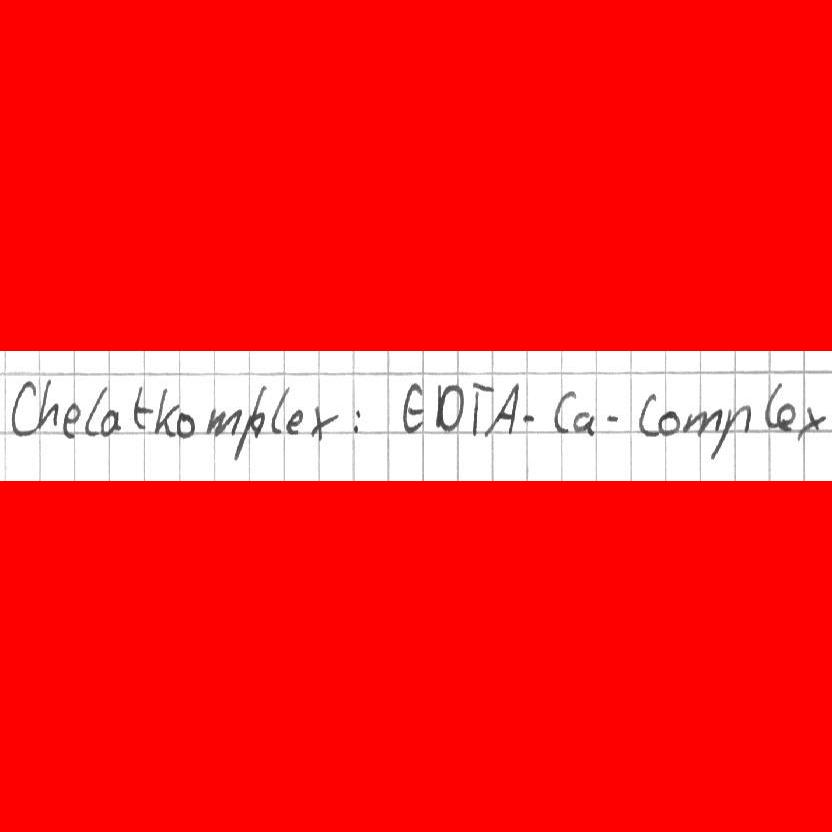Char: (714, 404, 754, 454), (482, 380, 518, 435), (431, 379, 465, 436), (6, 378, 39, 435), (234, 409, 267, 462), (467, 377, 495, 436), (399, 379, 427, 434), (680, 404, 724, 438), (152, 386, 180, 438), (549, 385, 576, 437), (794, 400, 825, 442), (636, 388, 660, 442), (37, 375, 61, 428), (83, 385, 107, 437), (206, 404, 242, 438), (308, 406, 340, 442), (131, 383, 153, 432), (270, 386, 291, 435), (762, 381, 782, 429), (61, 401, 84, 441), (570, 406, 596, 438), (654, 407, 681, 437), (97, 407, 123, 437), (173, 408, 197, 440), (775, 398, 796, 431), (283, 408, 305, 435), (520, 406, 537, 424), (353, 409, 364, 431), (602, 408, 615, 426)
